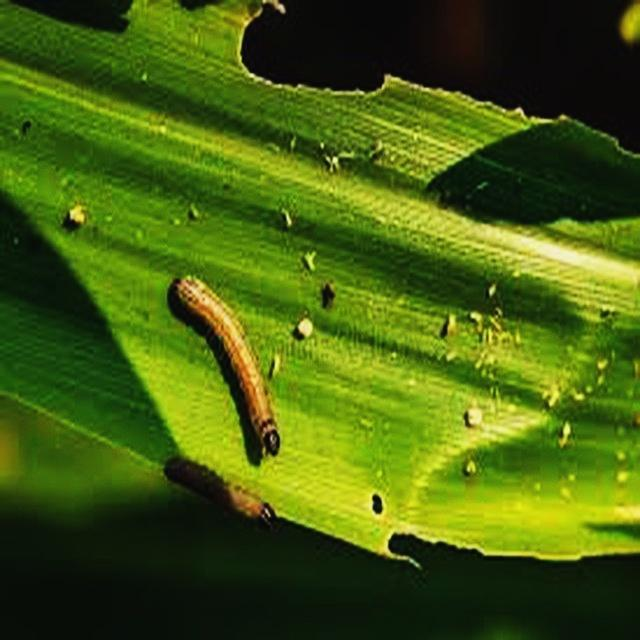Plaga: (169, 270, 288, 466)
